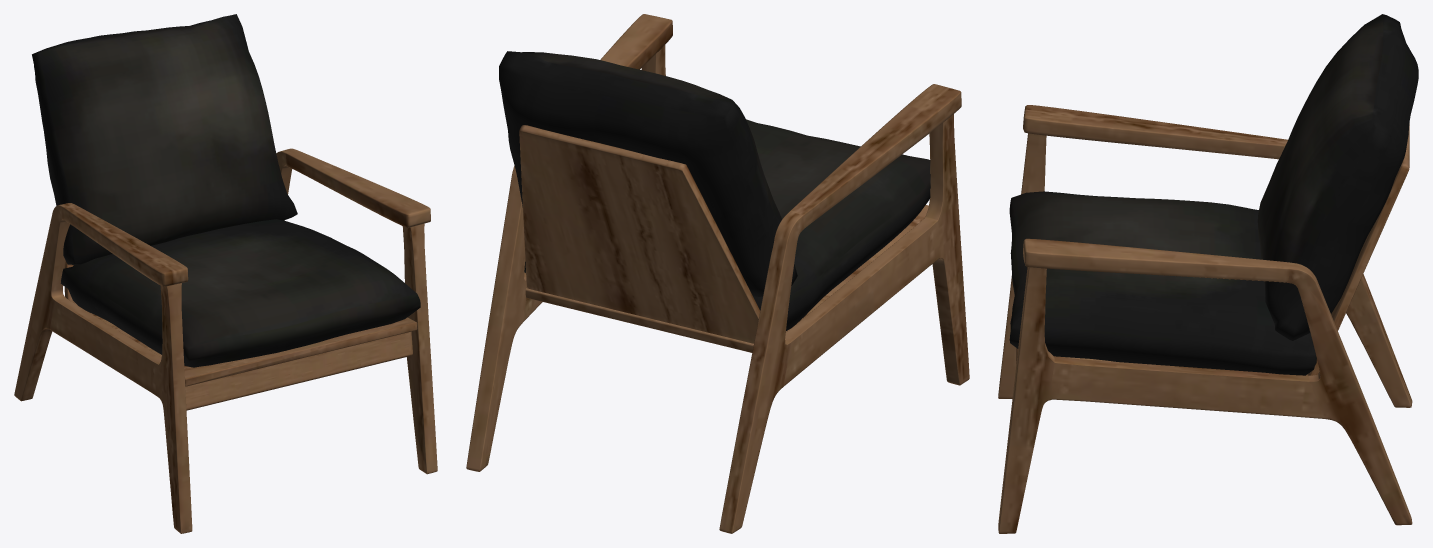
Rendered from modern_arm_chair_01.glb.
The picture shows the model from 3 angles, left to right: view 1: azimuth 30°, elevation 25°; view 2: azimuth 150°, elevation 25°; view 3: azimuth 270°, elevation 25°; orthographic projection. The views are drawn at different scales.
Parts seen in each view (by area): view 1: modern_arm_chair_01; view 2: modern_arm_chair_01; view 3: modern_arm_chair_01.
Boxes of the visible parts, x1,y1,x2,y2 form: modern_arm_chair_01: (14,14,437,533); modern_arm_chair_01: (466,14,969,533); modern_arm_chair_01: (998,14,1418,533).
Size of the model in its own units: 0.8203 by 1.02 by 0.9865.
2 materials, 2 textured.
